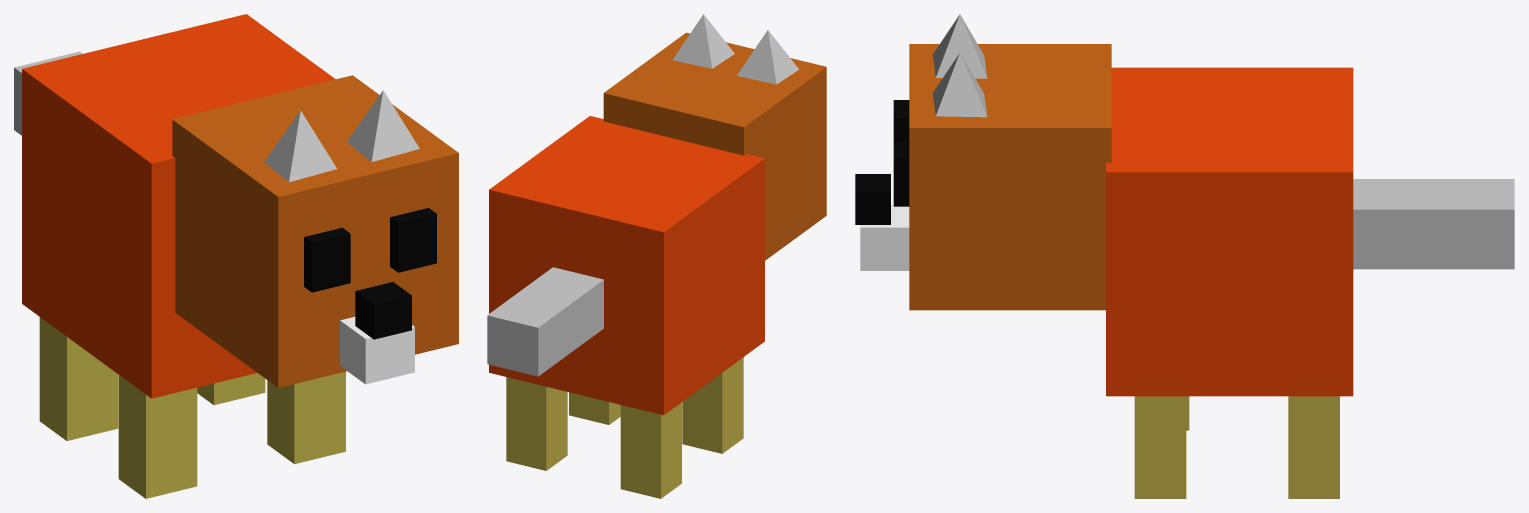
The model's file is cat1.obj.
The picture shows the model from 3 angles, left to right: view 1: azimuth 30°, elevation 25°; view 2: azimuth 150°, elevation 25°; view 3: azimuth 270°, elevation 25°; orthographic projection. The views are drawn at different scales.
Parts seen in each view (by area): view 1: Cube_Material, 立方体_材质.002, 立方体.003_材质.017, 立方体.004_材质.006, 立方体.002_材质.016, 立方体.011_材质.011, 锥体_材质.019, 锥体.001_材质.020, 立方体.008_材质.008, 立方体.010_材质.010, 立方体.006_材质.022, 立方体.001_材质.015 (+1 smaller); view 2: Cube_Material, 立方体_材质.002, 立方体.005_材质.007, 立方体.004_材质.006, 立方体.001_材质.015, 立方体.003_材质.017, 锥体.001_材质.020, 锥体_材质.019, 立方体.002_材质.016; view 3: Cube_Material, 立方体_材质.002, 立方体.005_材质.007, 立方体.002_材质.016, 立方体.001_材质.015, 立方体.011_材质.011, 锥体.001_材质.020, 锥体_材质.019, 立方体.008_材质.008, 立方体.006_材质.022, 立方体.010_材质.010.
Boxes of the visible parts, box(x1,y1,x2,y2) form: Cube_Material: box(22, 14, 335, 398); 立方体_材质.002: box(172, 75, 458, 387); 立方体.003_材质.017: box(118, 375, 197, 498); 立方体.004_材质.006: box(39, 317, 118, 440); 立方体.002_材质.016: box(267, 371, 345, 464); 立方体.011_材质.011: box(340, 316, 414, 384); 锥体_材质.019: box(264, 110, 336, 182); 锥体.001_材质.020: box(347, 90, 419, 161); 立方体.008_材质.008: box(355, 282, 411, 339); 立方体.010_材质.010: box(304, 227, 350, 292); 立方体.006_材质.022: box(390, 208, 436, 272); 立方体.001_材质.015: box(197, 373, 265, 405); Cube_Material: box(489, 116, 764, 415); 立方体_材质.002: box(603, 32, 826, 260); 立方体.005_材质.007: box(487, 267, 603, 376); 立方体.004_材质.006: box(620, 402, 681, 498); 立方体.001_材质.015: box(506, 377, 567, 470); 立方体.003_材质.017: box(682, 357, 743, 453); 锥体.001_材质.020: box(672, 14, 734, 68); 锥体_材质.019: box(737, 30, 798, 84); 立方体.002_材质.016: box(569, 392, 620, 424); Cube_Material: box(1106, 67, 1353, 396); 立方体_材质.002: box(909, 44, 1111, 310); 立方体.005_材质.007: box(1353, 179, 1514, 269); 立方体.002_材质.016: box(1134, 396, 1186, 498); 立方体.001_材质.015: box(1288, 396, 1339, 498); 立方体.011_材质.011: box(860, 204, 909, 270); 锥体.001_材质.020: box(932, 53, 987, 117); 锥体_材质.019: box(932, 14, 987, 78); 立方体.008_材质.008: box(855, 174, 890, 224); 立方体.006_材质.022: box(893, 141, 909, 206); 立方体.010_材质.010: box(893, 100, 909, 141).
Bounding box in the file's own units: 2 × 3.76 × 5.33.
